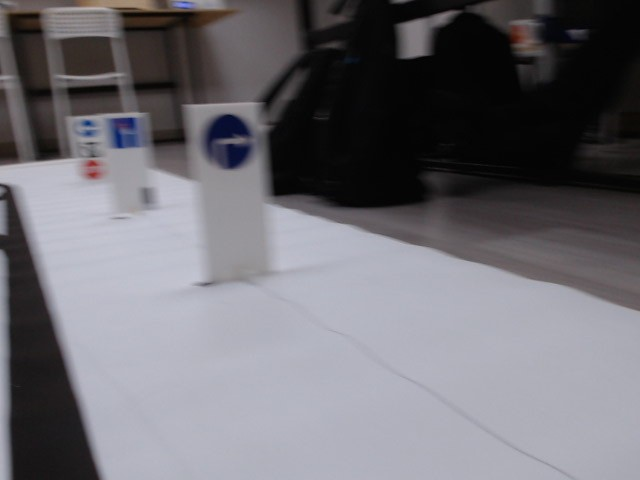Right: (199, 110, 256, 169)
priority_movement: (108, 117, 145, 151)
